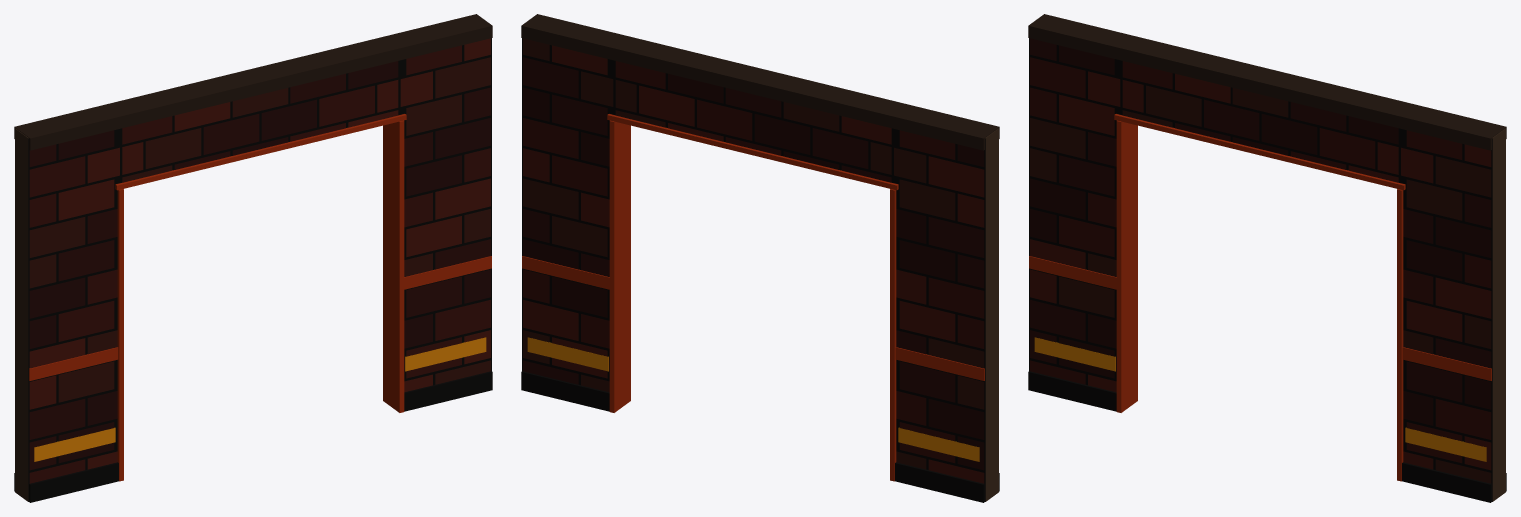
Rendered from SM_Wall_Gate_4x3_Hideout.glb.
3 renders of one model, left to right at view 1: azimuth 30°, elevation 25°; view 2: azimuth 150°, elevation 25°; view 3: azimuth 330°, elevation 25°, orthographic.
Visible parts, largest first — view 1: SM_Wall_Gate_4x3_Hideout-col; view 2: SM_Wall_Gate_4x3_Hideout-col; view 3: SM_Wall_Gate_4x3_Hideout-col.
Boxes of the visible parts, x1,y1,x2,y2 form: SM_Wall_Gate_4x3_Hideout-col: (14, 14, 492, 502); SM_Wall_Gate_4x3_Hideout-col: (521, 14, 999, 502); SM_Wall_Gate_4x3_Hideout-col: (1028, 14, 1506, 502).
Size of the model in its own units: 4 by 3 by 0.25.
